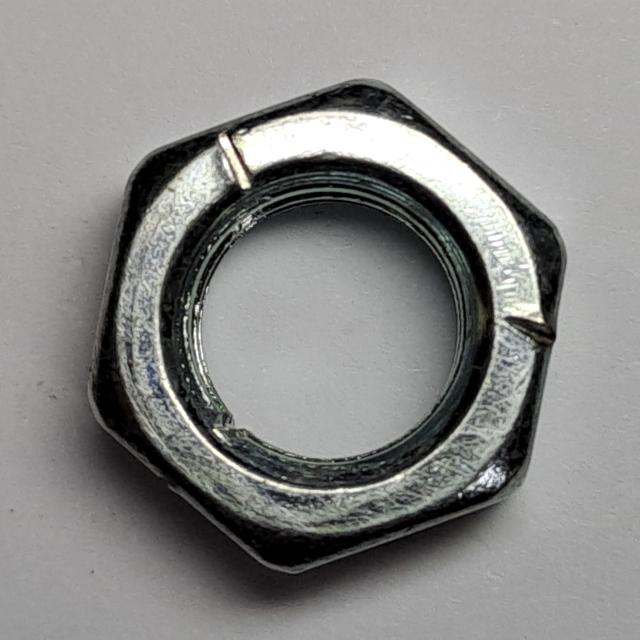Scratches: (77, 68, 580, 585)
